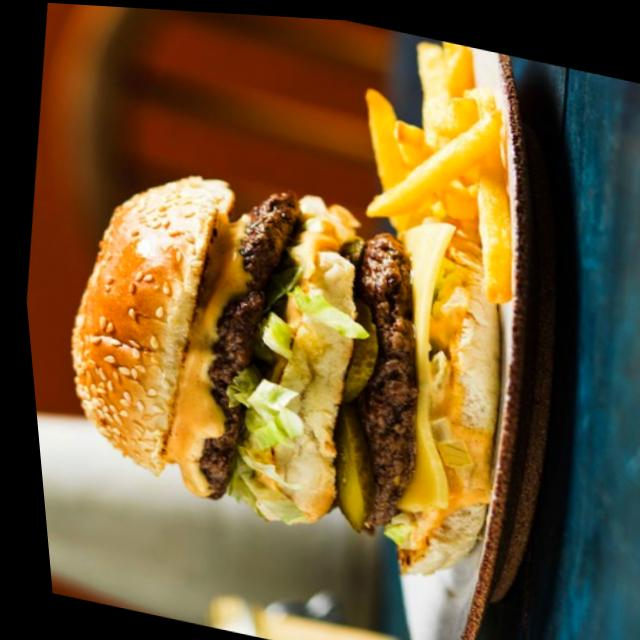burger: (21, 138, 536, 592)
